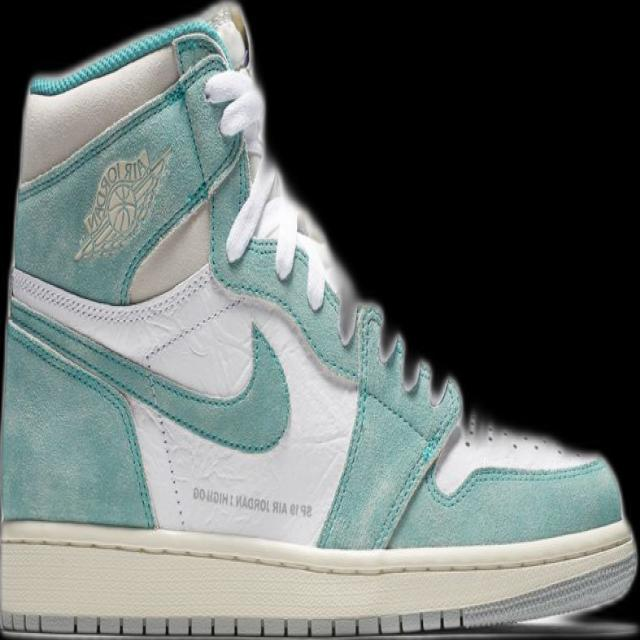J1_InsoleChar: (0, 0, 638, 639)
J1_ShoeLogo: (72, 143, 173, 262), (190, 485, 314, 519)
J1_StitchPattern: (8, 255, 465, 546), (1, 519, 637, 637), (9, 262, 291, 457), (9, 305, 189, 527), (26, 4, 250, 97), (1, 608, 467, 639), (9, 263, 212, 329), (458, 408, 592, 462), (139, 297, 244, 365), (141, 400, 190, 528)
